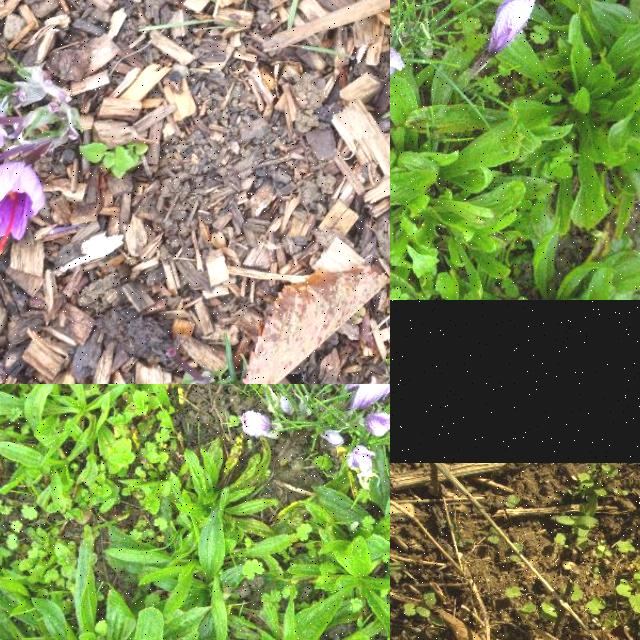flower: (0, 162, 44, 255), (488, 0, 537, 55), (241, 409, 273, 438), (347, 445, 375, 471), (364, 411, 390, 438), (390, 45, 406, 77), (324, 429, 344, 446)
overlap: (344, 384, 390, 414)
